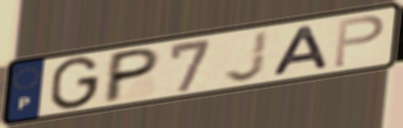7: (167, 36, 215, 94)
A: (271, 23, 332, 78)
G: (46, 55, 103, 112)
J: (221, 28, 271, 84)
P: (99, 45, 164, 106), (331, 13, 387, 70)
